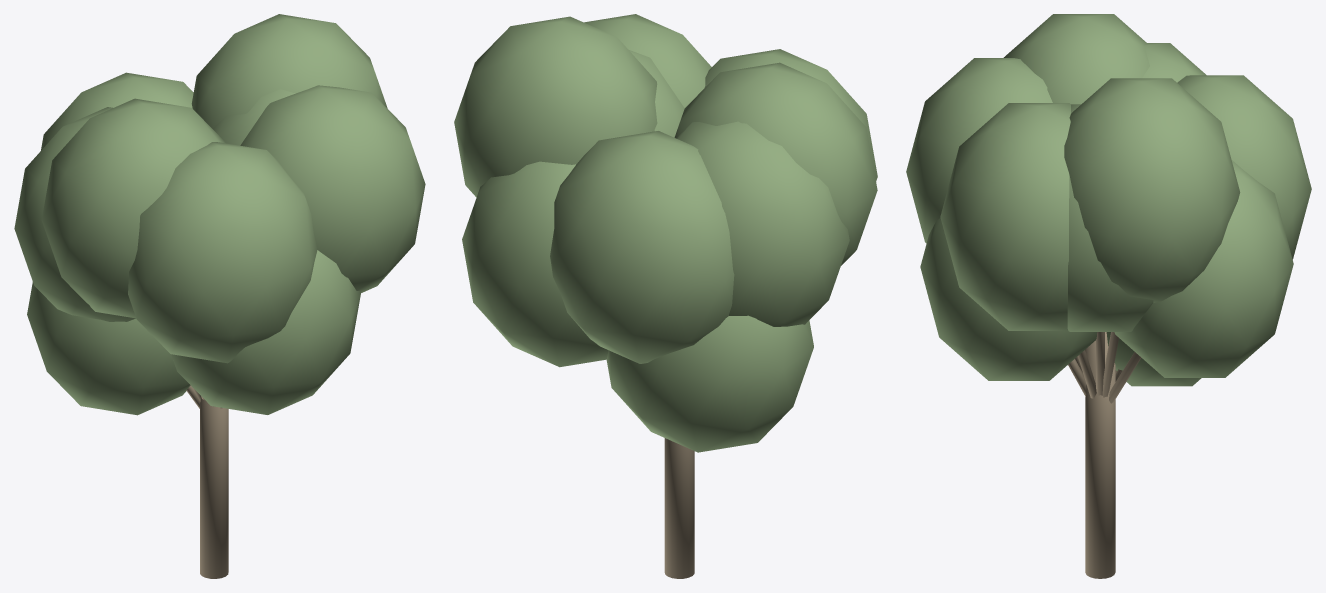
Rendered from tyne-pine_lod0.glb.
3 renders of one model, left to right at view 1: azimuth 30°, elevation 25°; view 2: azimuth 150°, elevation 25°; view 3: azimuth 270°, elevation 25°, orthographic. The views are drawn at different scales.
Parts seen in each view (by area): view 1: RF_Foliage.007, RF_Foliage.005, RF_Foliage.004, RF_Foliage.002, RF_Foliage.008, RF_Foliage.001, RF_Foliage.009, RF_Trunk, RF_Foliage.006, RF_Foliage; view 2: RF_Foliage.006, RF_Foliage.008, RF_Foliage.009, RF_Foliage.001, RF_Foliage.003, RF_Foliage.004, RF_Foliage.005, RF_Trunk, RF_Foliage.007, RF_Foliage; view 3: RF_Foliage.008, RF_Foliage.005, RF_Foliage.003, RF_Foliage.007, RF_Foliage.002, RF_Foliage.006, RF_Foliage.004, RF_Trunk, RF_Foliage, RF_Foliage.009, RF_Foliage.001, RF_Branch.009 (+1 smaller).
Boxes of the visible parts, x1,y1,x2,y2 form: RF_Foliage.007: (128, 142, 317, 363); RF_Foliage.005: (240, 85, 425, 292); RF_Foliage.004: (41, 98, 225, 318); RF_Foliage.002: (171, 250, 360, 414); RF_Foliage.008: (191, 14, 387, 128); RF_Foliage.001: (27, 282, 190, 415); RF_Foliage.009: (14, 107, 135, 321); RF_Trunk: (200, 397, 228, 578); RF_Foliage.006: (41, 72, 193, 150); RF_Foliage: (212, 89, 297, 145); RF_Foliage.006: (550, 131, 734, 363); RF_Foliage.008: (454, 16, 657, 197); RF_Foliage.009: (677, 121, 849, 326); RF_Foliage.001: (606, 315, 813, 452); RF_Foliage.003: (462, 161, 608, 367); RF_Foliage.004: (674, 62, 877, 265); RF_Foliage.005: (584, 14, 711, 107); RF_Trunk: (664, 438, 694, 578); RF_Foliage.007: (704, 49, 877, 181); RF_Foliage: (629, 50, 684, 137); RF_Foliage.008: (1064, 78, 1240, 302); RF_Foliage.005: (940, 103, 1070, 330); RF_Foliage.003: (1114, 160, 1293, 377); RF_Foliage.007: (906, 58, 1052, 243); RF_Foliage.002: (920, 218, 1097, 380); RF_Foliage.006: (1177, 75, 1311, 259); RF_Foliage.004: (1003, 14, 1149, 104); RF_Trunk: (1085, 332, 1115, 578); RF_Foliage: (1067, 104, 1153, 331); RF_Foliage.009: (1142, 43, 1206, 82); RF_Foliage.001: (1106, 332, 1201, 386); RF_Branch.009: (1102, 332, 1118, 397).
Bounding box in the file's own units: 10.78 × 15.34 × 10.47.
